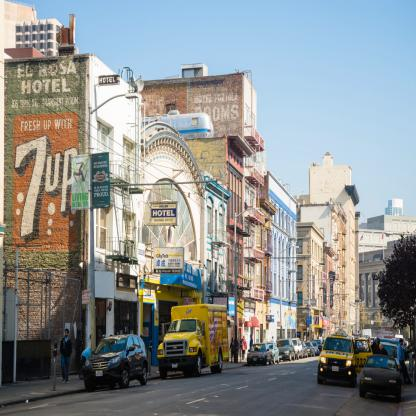Car: (316, 325, 409, 401), (82, 324, 148, 394), (318, 327, 373, 384), (246, 338, 324, 368), (358, 353, 402, 396), (274, 338, 299, 362), (263, 340, 281, 366), (247, 343, 268, 365)
Truck: (153, 309, 215, 380)
